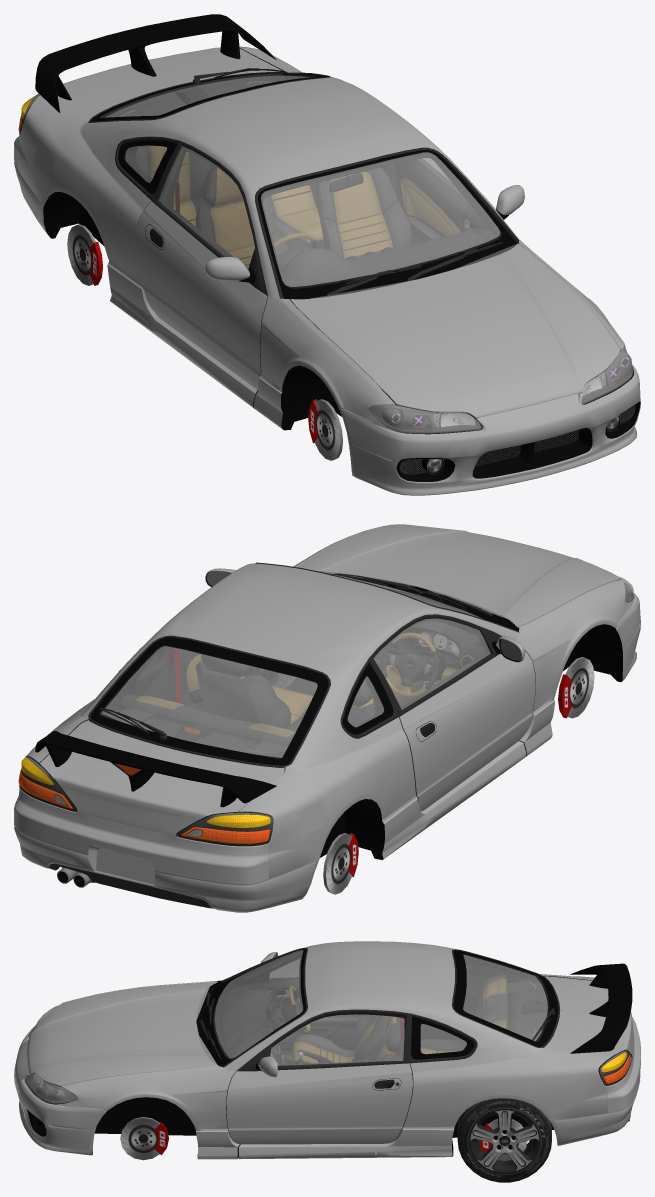
File: Nissan.fbx
3 renders of one model, top to bottom at view 1: azimuth 30°, elevation 25°; view 2: azimuth 150°, elevation 25°; view 3: azimuth 270°, elevation 25°, orthographic. The views are drawn at different scales.
Visible parts, largest first — view 1: Body, Bonut, Door_open; view 2: Body, Door_open, Bonut, Sterring; view 3: Body, Bonut, Wheel, Door_open, Sterring.
Boxes of the visible parts, left/top/right/bottom form: Body: left=14, top=14, right=640, bottom=495; Bonut: left=290, top=243, right=620, bottom=418; Door_open: left=135, top=146, right=267, bottom=389; Body: left=14, top=524, right=640, bottom=912; Door_open: left=373, top=618, right=535, bottom=810; Bonut: left=296, top=524, right=619, bottom=627; Sterring: left=381, top=632, right=438, bottom=697; Body: left=14, top=941, right=640, bottom=1160; Bonut: left=27, top=981, right=217, bottom=1086; Wheel: left=457, top=1098, right=551, bottom=1182; Door_open: left=249, top=952, right=362, bottom=1050; Sterring: left=281, top=986, right=309, bottom=1031.
Size of the model in its own units: 194 by 129 by 444.
Materials: 4 (2 with a texture image).
